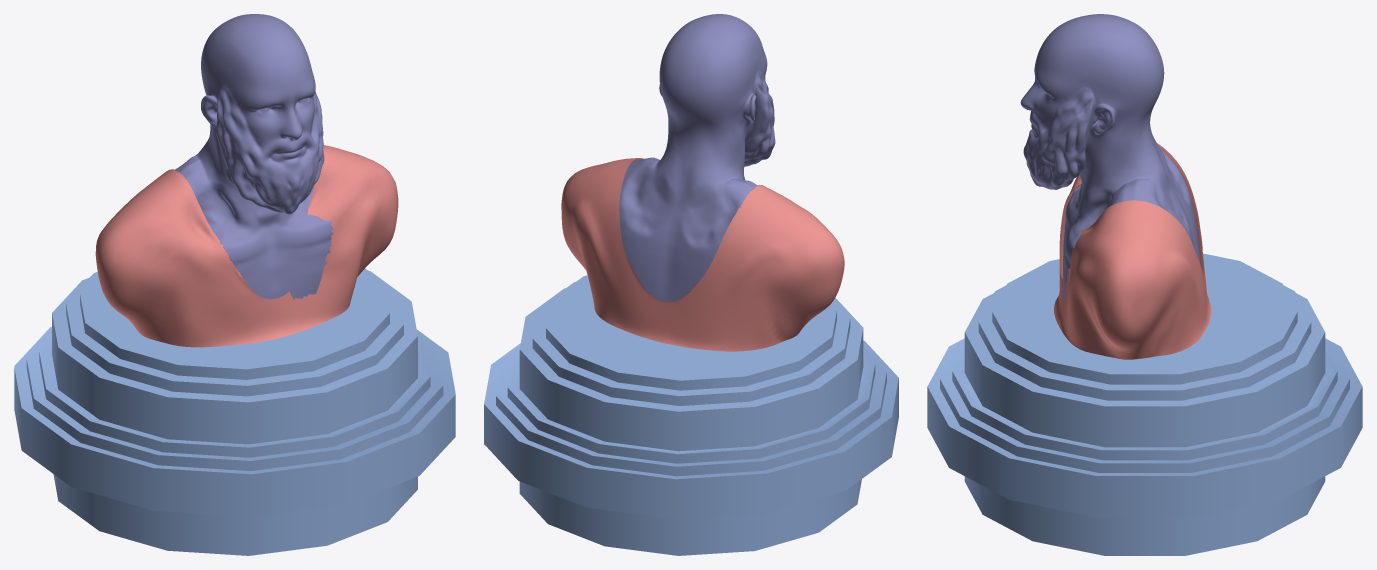
Rendered from stambeeld low.fbx.
3 renders of one model, left to right at view 1: azimuth 30°, elevation 25°; view 2: azimuth 150°, elevation 25°; view 3: azimuth 270°, elevation 25°, orthographic. The views are drawn at different scales.
Parts seen in each view (by area): view 1: onderkant_low, shirt_low, hoofd_low; view 2: onderkant_low, shirt_low, hoofd_low; view 3: onderkant_low, hoofd_low, shirt_low.
Part boxes in pixels (box(x1,y1,x2,y2)): onderkant_low: box(14, 268, 455, 555); shirt_low: box(95, 145, 398, 347); hoofd_low: box(175, 14, 333, 299); onderkant_low: box(484, 275, 898, 555); shirt_low: box(561, 158, 844, 351); hoofd_low: box(619, 14, 775, 302); onderkant_low: box(927, 253, 1362, 555); hoofd_low: box(1020, 14, 1200, 301); shirt_low: box(1054, 143, 1211, 359).
Bounding box in the file's own units: 2.35 × 2.92 × 2.41.
